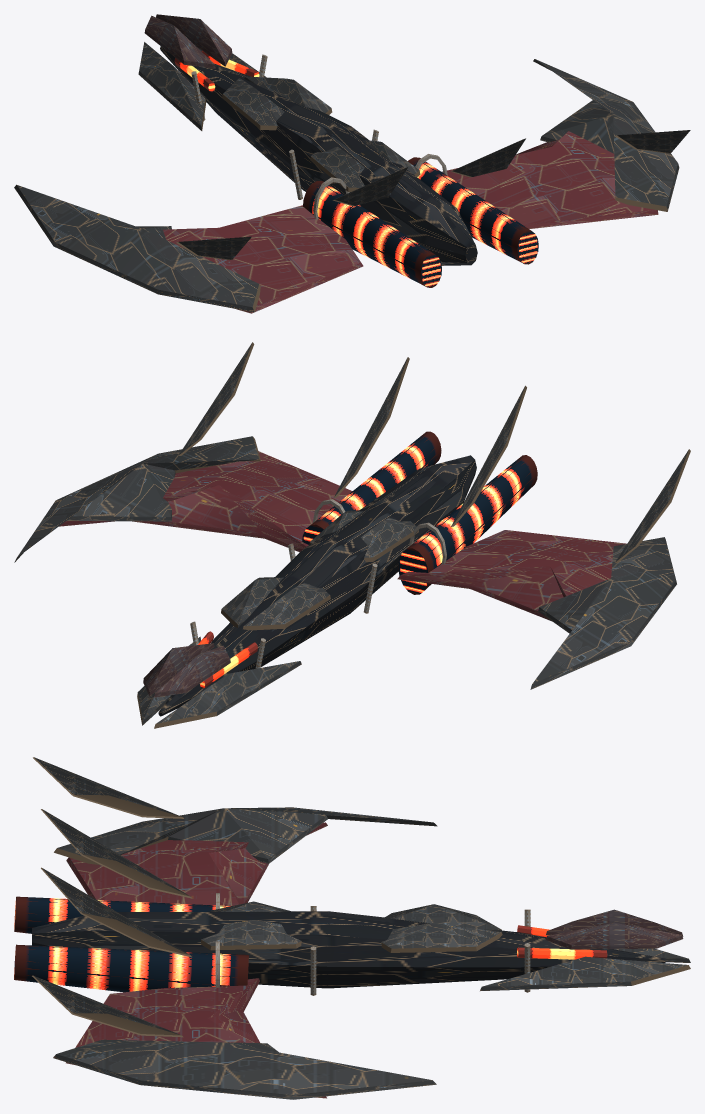
Rendered from dynasty_courier_far.glb.
3 views of the same model, one above another, from view 1: azimuth 30°, elevation 25°; view 2: azimuth 150°, elevation 25°; view 3: azimuth 270°, elevation 25° (orthographic). The views are drawn at different scales.
Parts seen in each view (by area): view 1: dynasty_courier_far_source; view 2: dynasty_courier_far_source; view 3: dynasty_courier_far_source.
Boxes of the visible parts, x1,y1,x2,y2 form: dynasty_courier_far_source: (14,14,690,313); dynasty_courier_far_source: (14,342,690,728); dynasty_courier_far_source: (14,757,690,1099).
Bounding box in the file's own units: 1.42 × 0.3416 × 1.41.
1 material, 1 textured.
